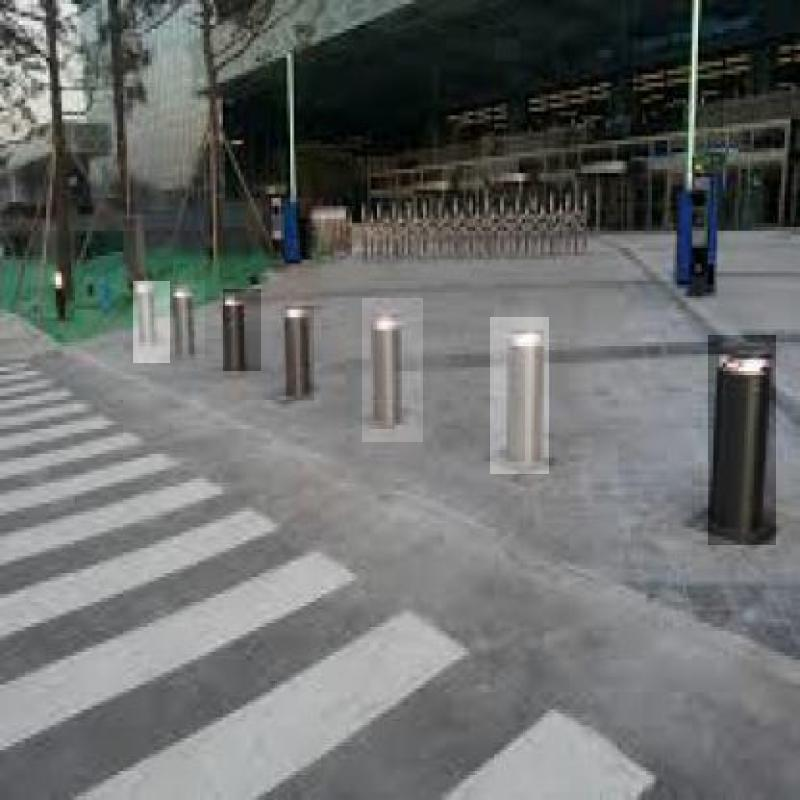bolard: (708, 335, 776, 545), (490, 317, 549, 474), (362, 298, 423, 442), (223, 289, 261, 371), (133, 281, 170, 363), (286, 306, 314, 401), (177, 280, 205, 358)
